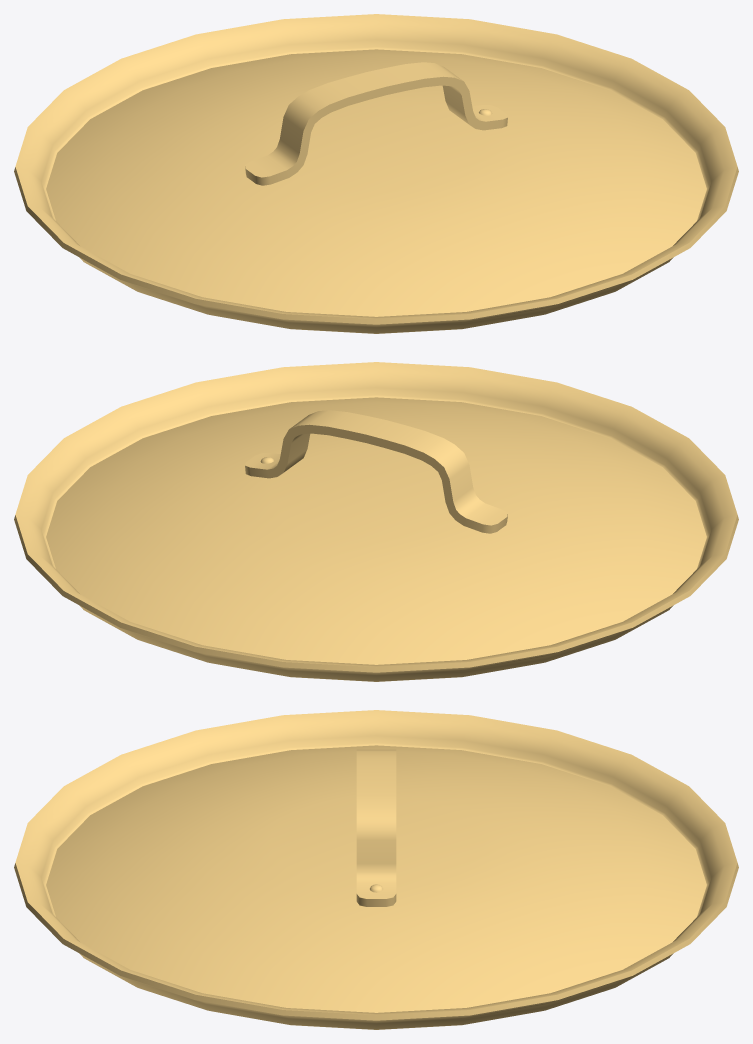
The model's file is SM_Pot_Lid.fbx.
3 renders of one model, top to bottom at view 1: azimuth 30°, elevation 25°; view 2: azimuth 150°, elevation 25°; view 3: azimuth 270°, elevation 25°, orthographic.
Visible parts, largest first — view 1: SM_Pot_Lid; view 2: SM_Pot_Lid; view 3: SM_Pot_Lid.
Boxes of the visible parts, left/top/right/bottom form: SM_Pot_Lid: left=14, top=14, right=738, bottom=333; SM_Pot_Lid: left=14, top=362, right=738, bottom=681; SM_Pot_Lid: left=14, top=710, right=738, bottom=1029.
Bounding box in the file's own units: 38.82 × 6.78 × 38.82.
